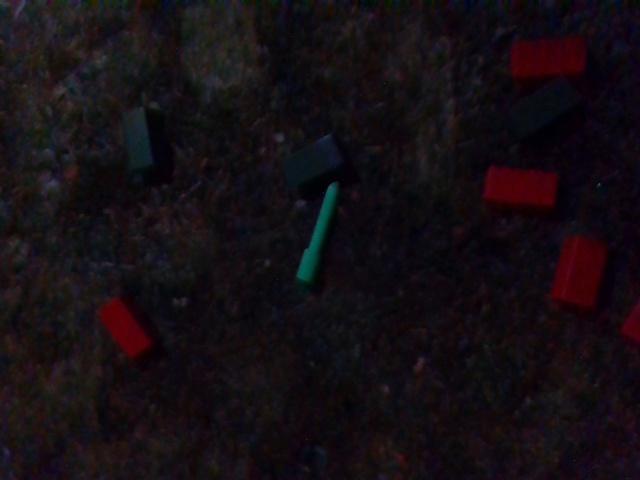Probe: (292, 178, 343, 283)
